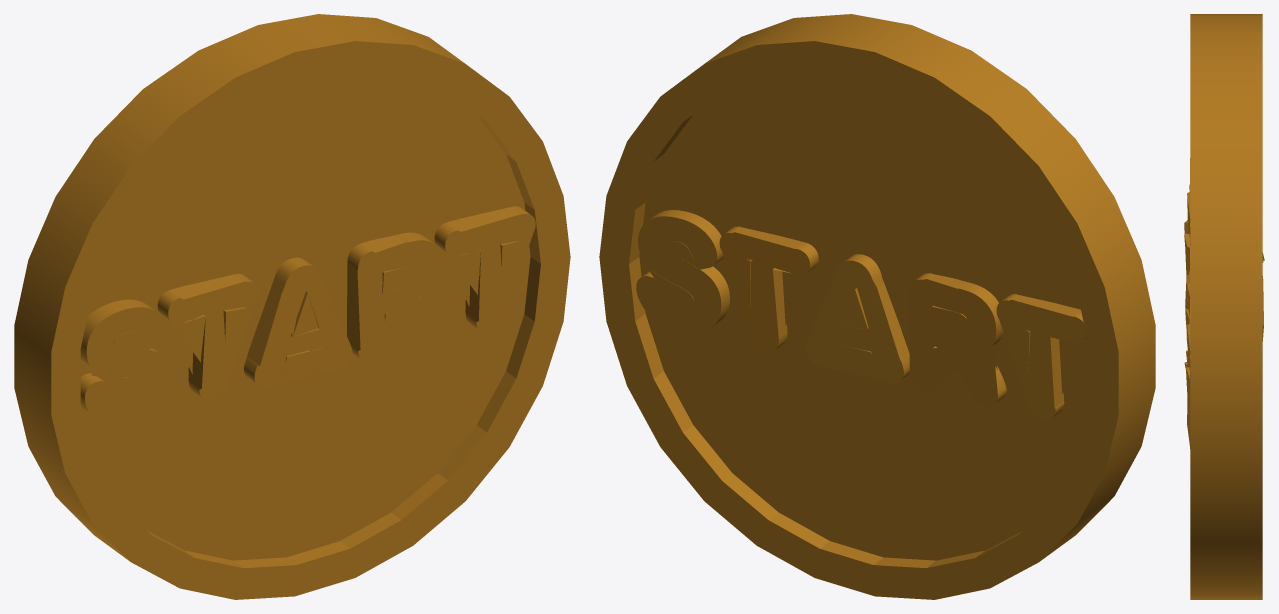
The model's file is coin_start_RE.FBX.
3 views of the same model, side by side, from view 1: azimuth 30°, elevation 25°; view 2: azimuth 150°, elevation 25°; view 3: azimuth 270°, elevation 25° (orthographic). The views are drawn at different scales.
Visible parts, largest first — view 1: Cylinder001; view 2: Cylinder001; view 3: Cylinder001.
Part boxes in pixels (left/top/right/bottom): Cylinder001: left=14, top=14, right=570, bottom=599; Cylinder001: left=599, top=14, right=1155, bottom=599; Cylinder001: left=1184, top=14, right=1264, bottom=599.
Bounding box in the file's own units: 63.1 × 63.21 × 8.69.
